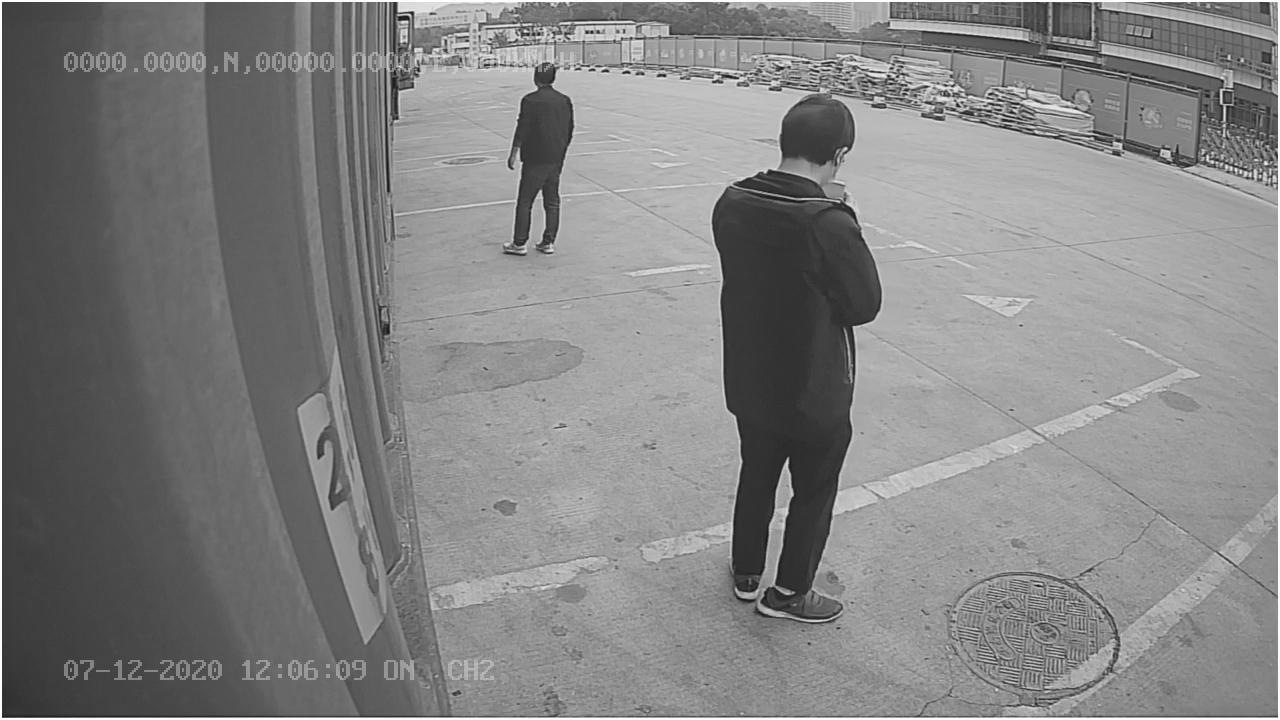person: (700, 89, 881, 624)
